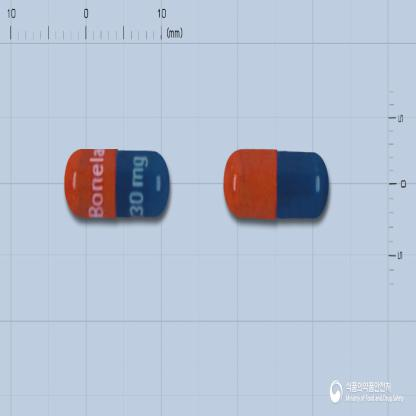pill: (63, 146, 171, 221), (222, 146, 329, 219)
